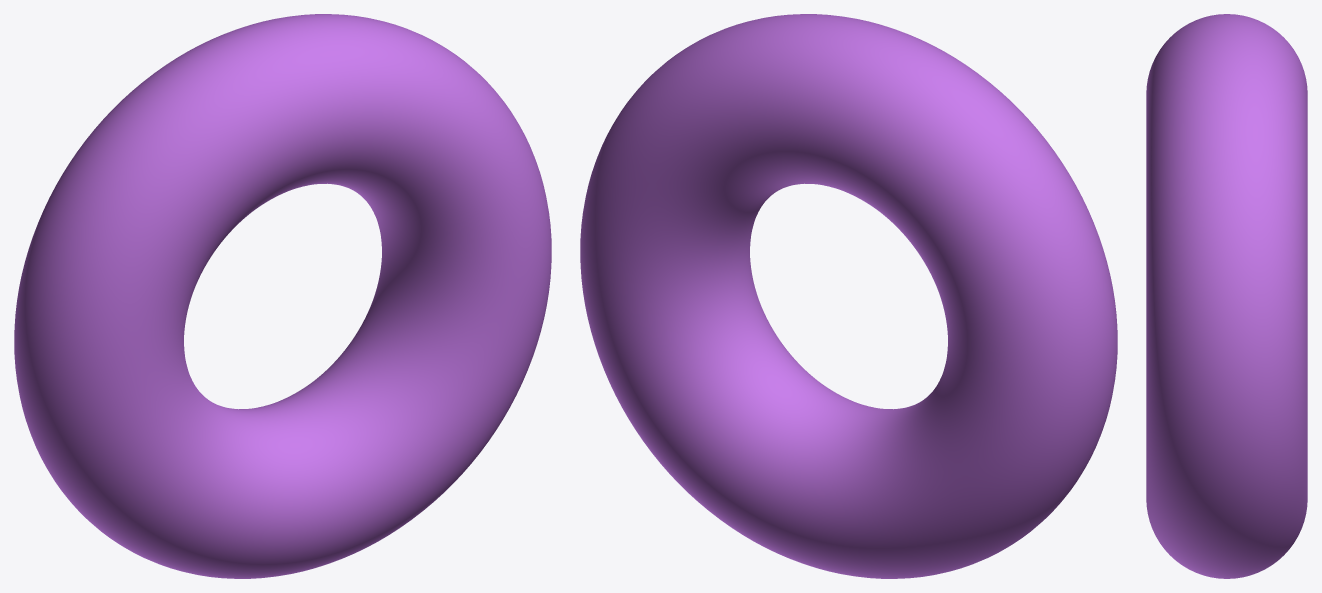
Rendered from halo-donut-3d.obj.
3 views of the same model, side by side, from view 1: azimuth 30°, elevation 25°; view 2: azimuth 150°, elevation 25°; view 3: azimuth 270°, elevation 25° (orthographic). The views are drawn at different scales.
Visible parts, largest first — view 1: HaloDonut; view 2: HaloDonut; view 3: HaloDonut.
Part boxes in pixels (box(x1,y1,x2,y2)): HaloDonut: box(14, 14, 551, 578); HaloDonut: box(580, 14, 1117, 578); HaloDonut: box(1146, 14, 1307, 578).
Size of the model in its own units: 2.8 by 2.8 by 0.8.
